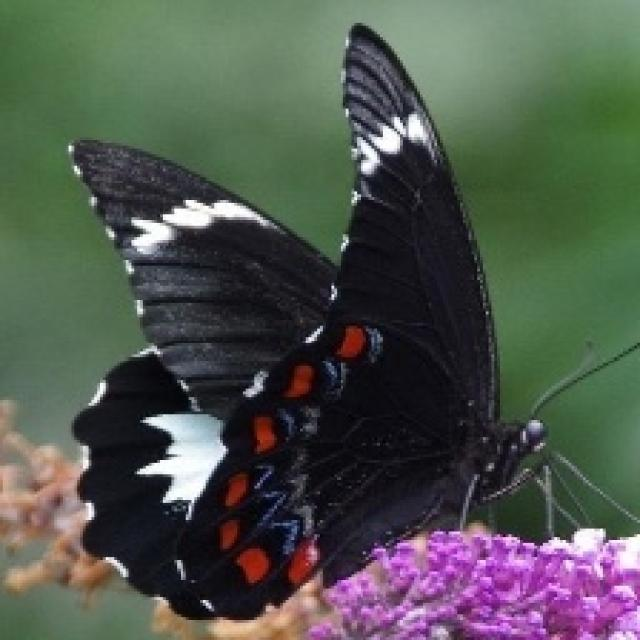butterfly: (63, 20, 637, 623)
